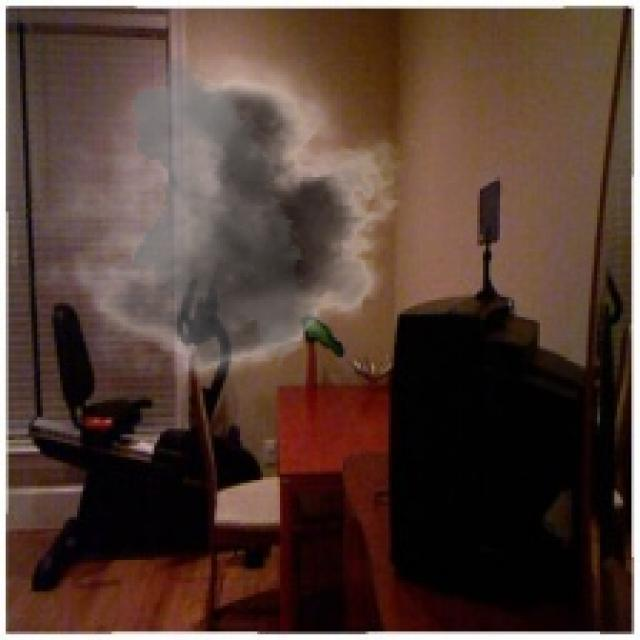smoke: (29, 54, 420, 397)
